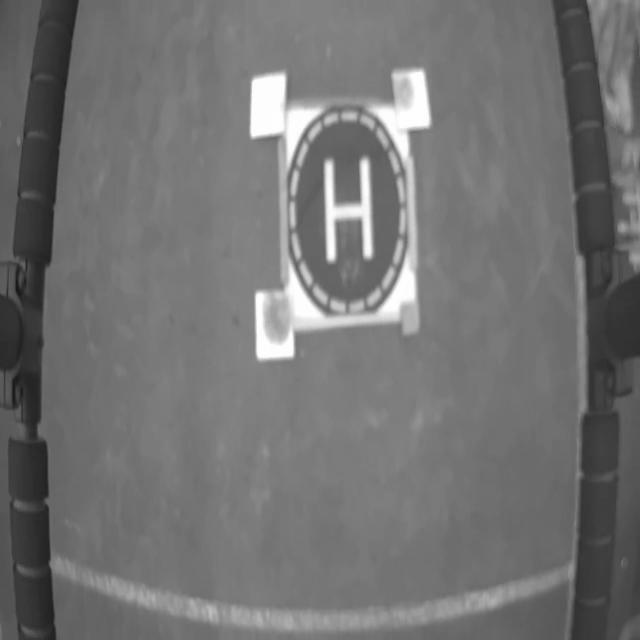Helipad: (323, 154, 375, 264)
